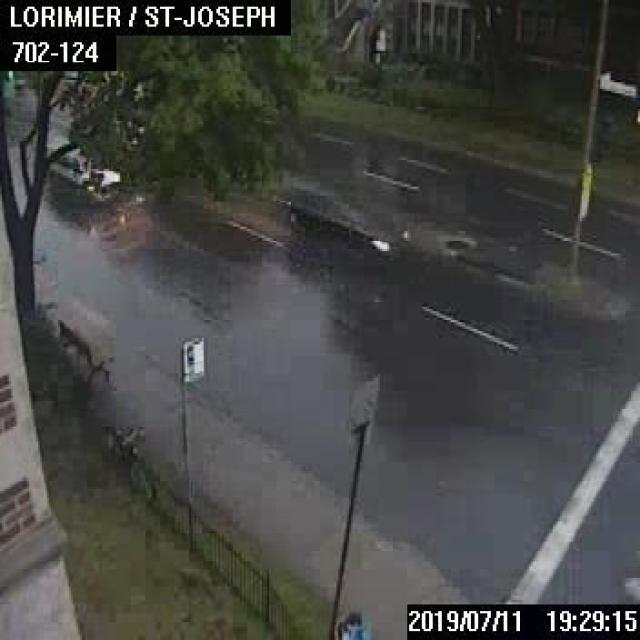vehicle: (289, 187, 408, 262), (43, 140, 120, 208)
